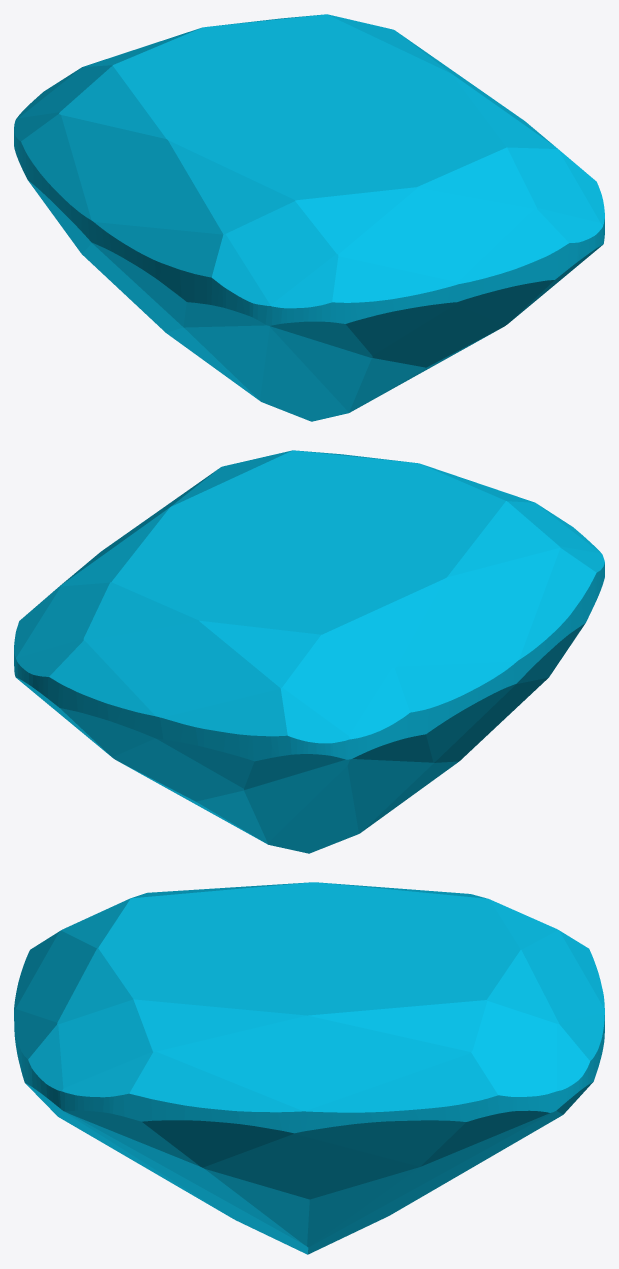
The model's file is Head_Single Halo_Elongated Cushion_0.75ct_Diamond.glb.
The picture shows the model from 3 angles, top to bottom: view 1: azimuth 30°, elevation 25°; view 2: azimuth 150°, elevation 25°; view 3: azimuth 270°, elevation 25°; orthographic projection. The views are drawn at different scales.
Bounding box in the file's own units: 0.00456 × 0.00321 × 0.00564.
